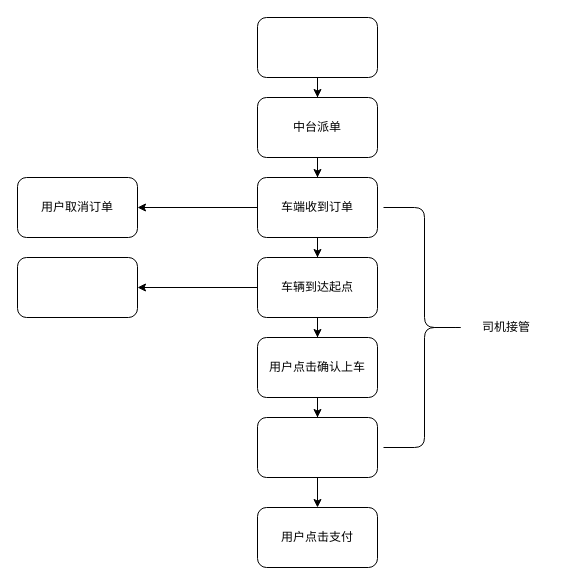
Image size: 565x585. Some labels were removed from this diagram. Here are the shapes that lost their labels. From the top down, the centre of each, then its label:
the point at 317,47: 用户呼叫订单 (创建订单)
the point at 77,287: 车辆取消订单
the point at 317,447: 车辆到达终点
